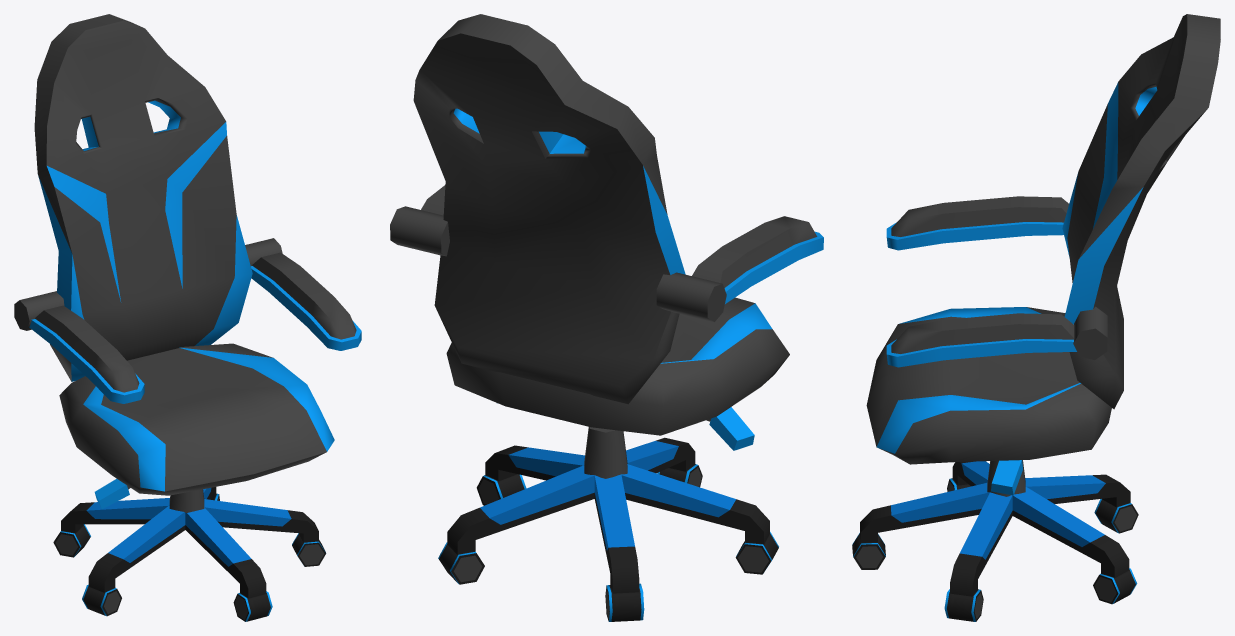
Rendered from office_chair_019.glb.
3 renders of one model, left to right at view 1: azimuth 30°, elevation 25°; view 2: azimuth 150°, elevation 25°; view 3: azimuth 270°, elevation 25°, orthographic. The views are drawn at different scales.
Parts seen in each view (by area): view 1: office_chair_019; view 2: office_chair_019; view 3: office_chair_019.
Boxes of the visible parts, x1,y1,x2,y2 form: office_chair_019: (14, 14, 361, 621); office_chair_019: (390, 14, 823, 621); office_chair_019: (852, 14, 1220, 621).
Bounding box in the file's own units: 0.6549 × 1.2 × 0.7447.
1 material, 1 textured.
